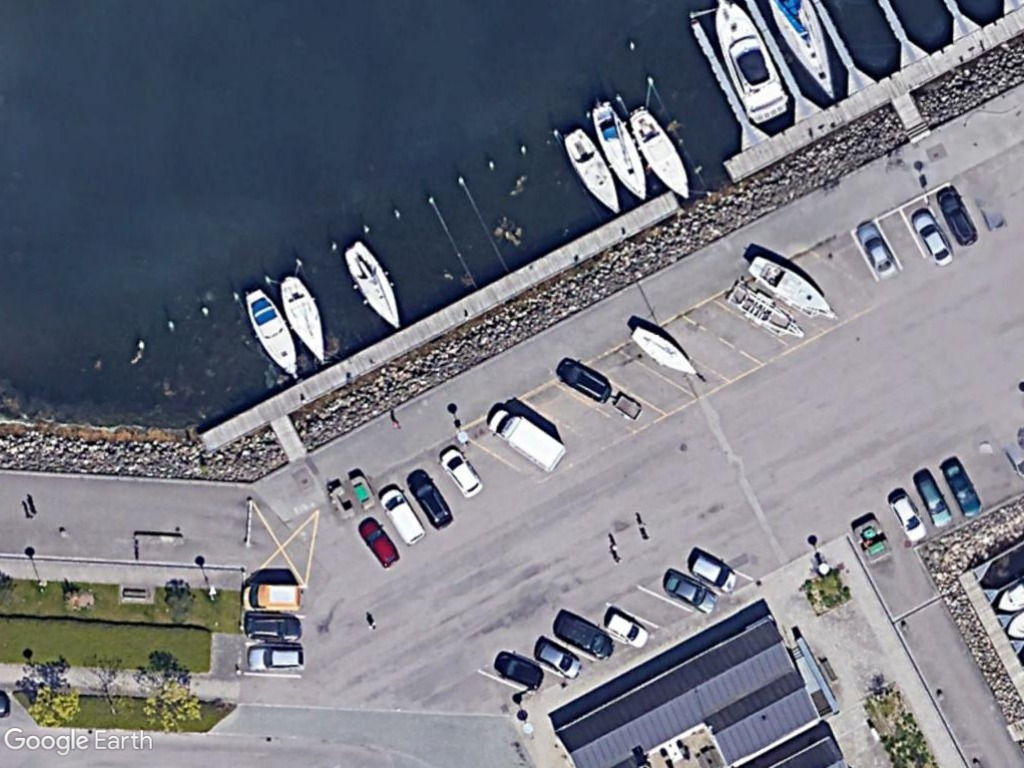boat: (704, 0, 790, 126), (587, 95, 654, 205), (746, 252, 843, 327), (338, 235, 407, 338), (628, 104, 697, 202), (560, 124, 629, 219), (241, 283, 303, 385), (628, 323, 710, 389), (278, 269, 331, 367)
car: (406, 468, 459, 533), (934, 184, 983, 250), (553, 357, 617, 407), (908, 206, 958, 269), (438, 444, 489, 501), (664, 568, 722, 618), (912, 468, 956, 533), (241, 636, 310, 677), (855, 219, 900, 280), (531, 634, 587, 683), (354, 516, 402, 572), (688, 549, 741, 598), (886, 488, 928, 547), (603, 606, 655, 652), (491, 652, 549, 692), (239, 608, 305, 642)
other: (937, 456, 984, 524)
truck: (487, 406, 577, 480)
van: (551, 606, 619, 664), (376, 480, 432, 549), (239, 576, 308, 613)
